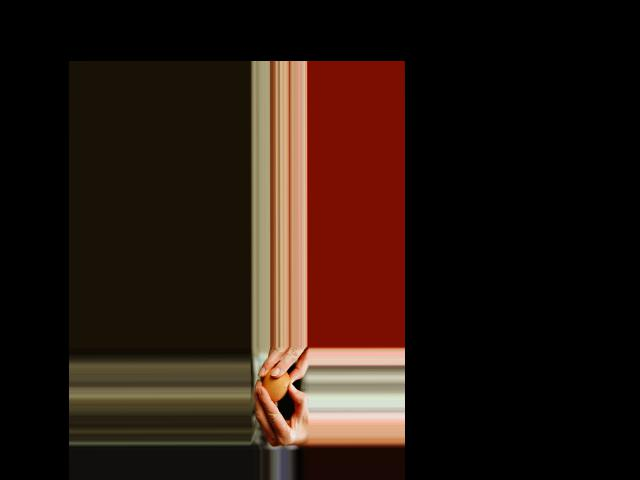egg: (261, 367, 289, 401)
